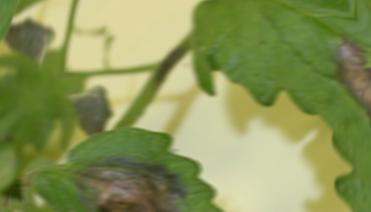Tomato leaf late blight: (139, 0, 371, 168), (16, 80, 233, 212)
